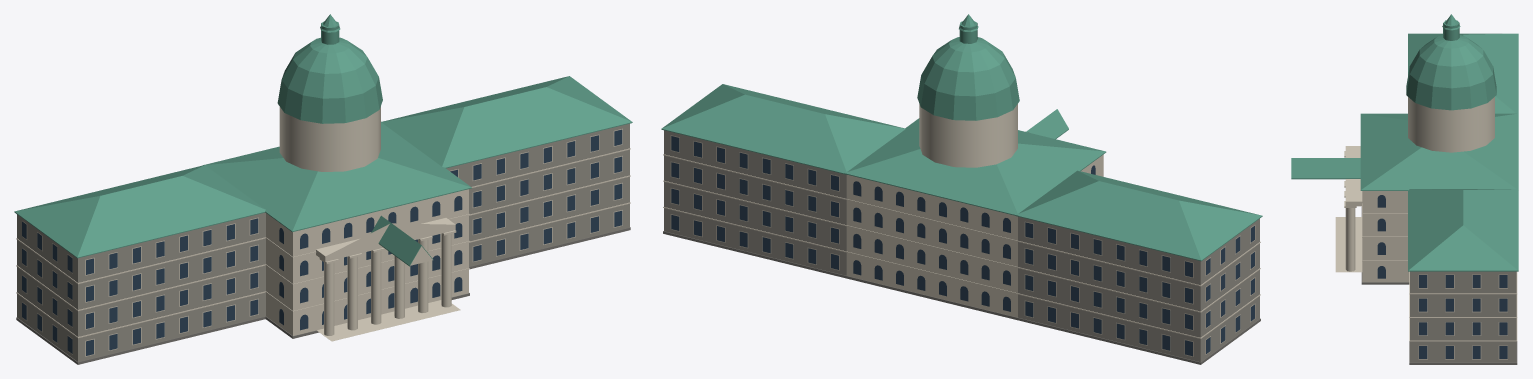
File: palais_federal.glb
3 views of the same model, side by side, from view 1: azimuth 30°, elevation 25°; view 2: azimuth 150°, elevation 25°; view 3: azimuth 270°, elevation 25° (orthographic). The views are drawn at different scales.
Visible parts, largest first — view 1: palais_federal; view 2: palais_federal; view 3: palais_federal.
Boxes of the visible parts, x1,y1,x2,y2 form: palais_federal: (14,14,632,364); palais_federal: (661,14,1262,364); palais_federal: (1291,14,1518,364).
Size of the model in its own units: 94.6 by 43.29 by 38.25.
1 material, 1 textured.
